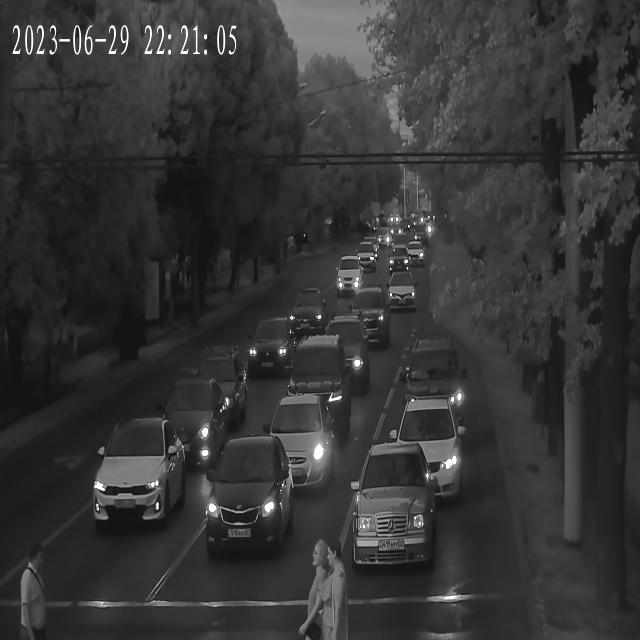Car: (348, 443, 438, 571), (88, 420, 184, 534), (204, 438, 293, 554), (378, 397, 466, 507), (264, 397, 335, 494), (399, 338, 470, 420), (160, 385, 228, 468), (280, 337, 348, 419), (177, 357, 249, 431), (302, 319, 373, 392), (246, 320, 302, 376), (339, 288, 390, 345), (316, 318, 371, 357), (285, 290, 328, 333), (386, 272, 418, 313), (335, 258, 366, 292), (352, 244, 376, 270), (387, 248, 410, 271), (406, 244, 427, 264), (374, 231, 392, 247)
